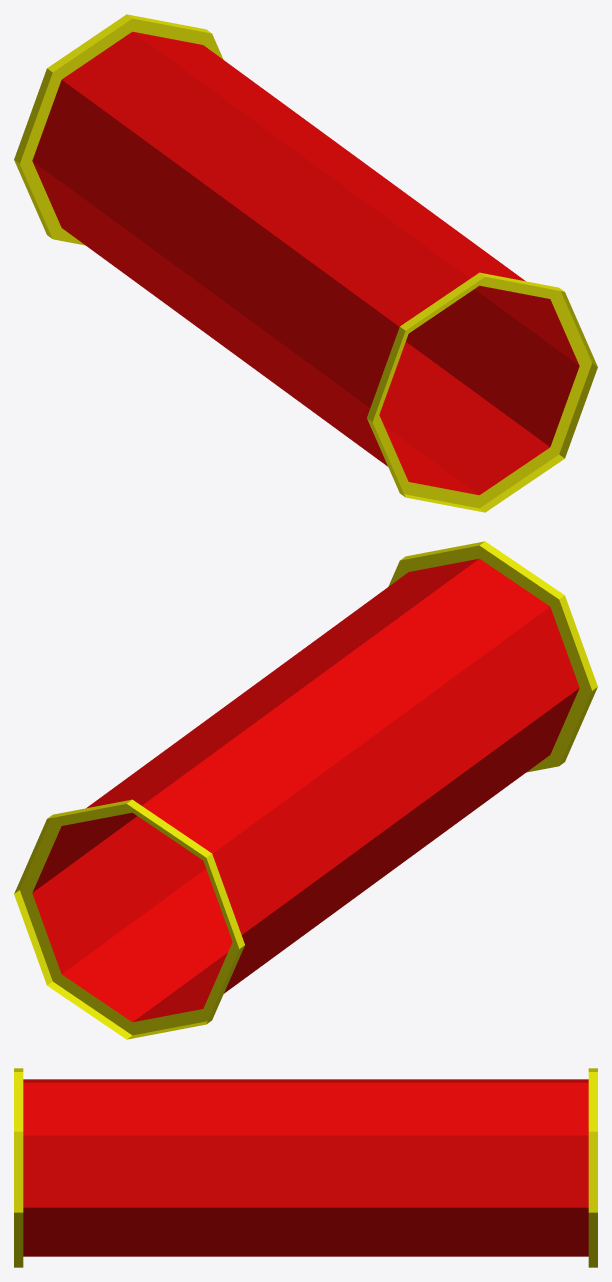
File: PipeA_SM.fbx
The picture shows the model from 3 angles, top to bottom: view 1: azimuth 30°, elevation 25°; view 2: azimuth 150°, elevation 25°; view 3: azimuth 270°, elevation 25°; orthographic projection. The views are drawn at different scales.
Visible parts, largest first — view 1: pCylinder2; view 2: pCylinder2; view 3: pCylinder2.
Part boxes in pixels (<box>): pCylinder2: <box>14,14,597,512</box>; pCylinder2: <box>14,541,597,1039</box>; pCylinder2: <box>14,1068,597,1267</box>.
Size of the model in its own units: 112 by 112 by 310.
